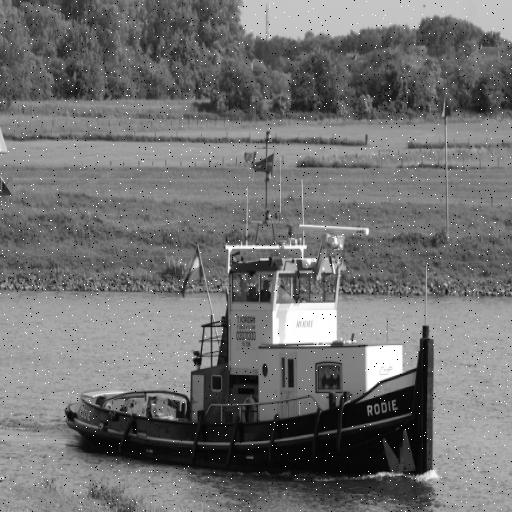tugboat: (63, 210, 440, 488)
